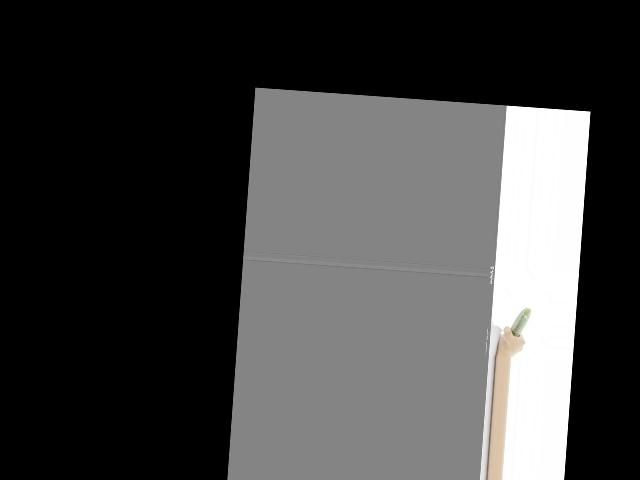cucumber: (510, 307, 530, 337)
